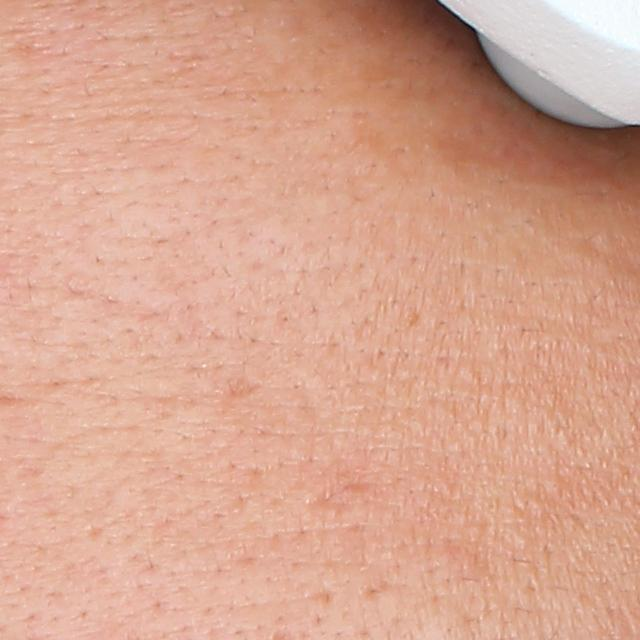atrophic_scar: (300, 468, 374, 519), (226, 367, 262, 403)
